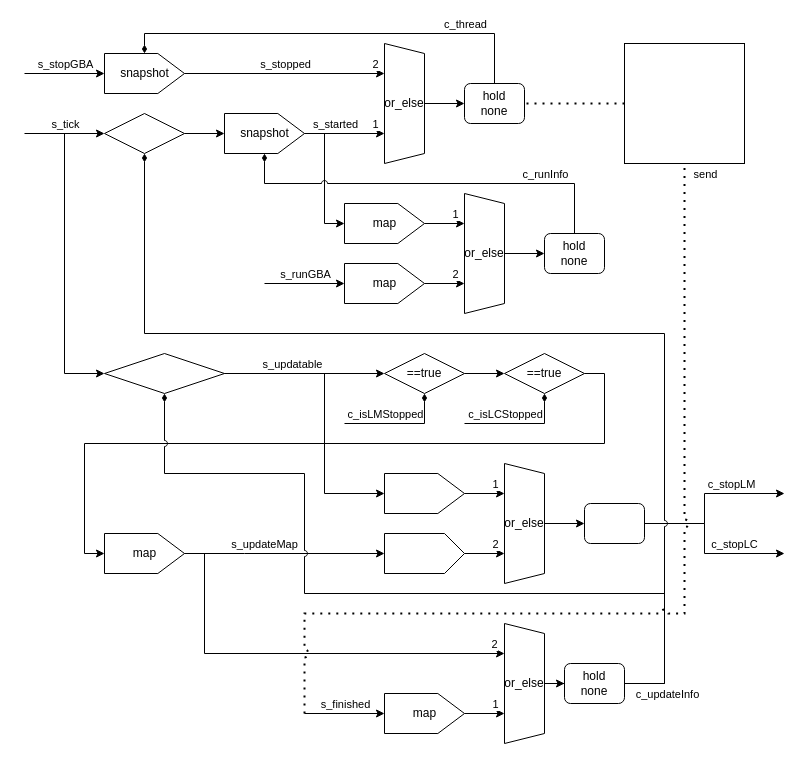
This 810x761 diagram has some shape labels left out. Here are the shapes that lost their labels. From the top down, the centre of each, then its label:
At pixel 684 103: "runGBA".
At pixel 144 133: "==none".
At pixel 164 373: "filter_optional".
At pixel 424 493: "map_to true".
At pixel 614 523: "hold false".
At pixel 424 553: "map_to false".
